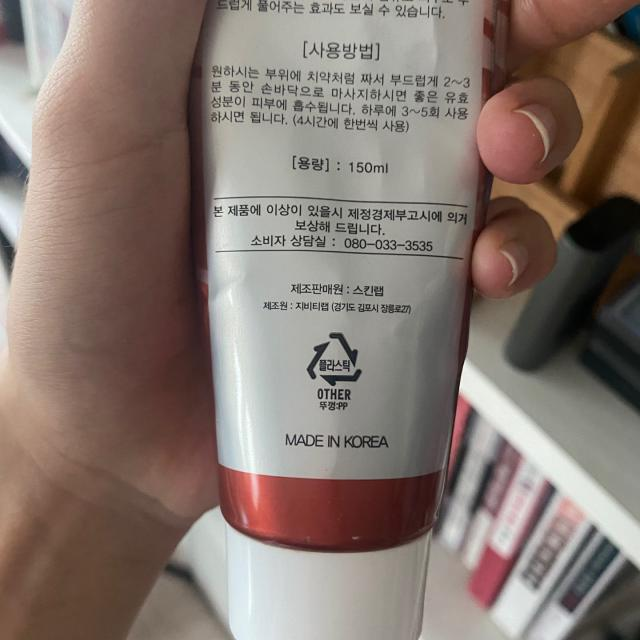Plastic: (306, 328, 364, 388)
